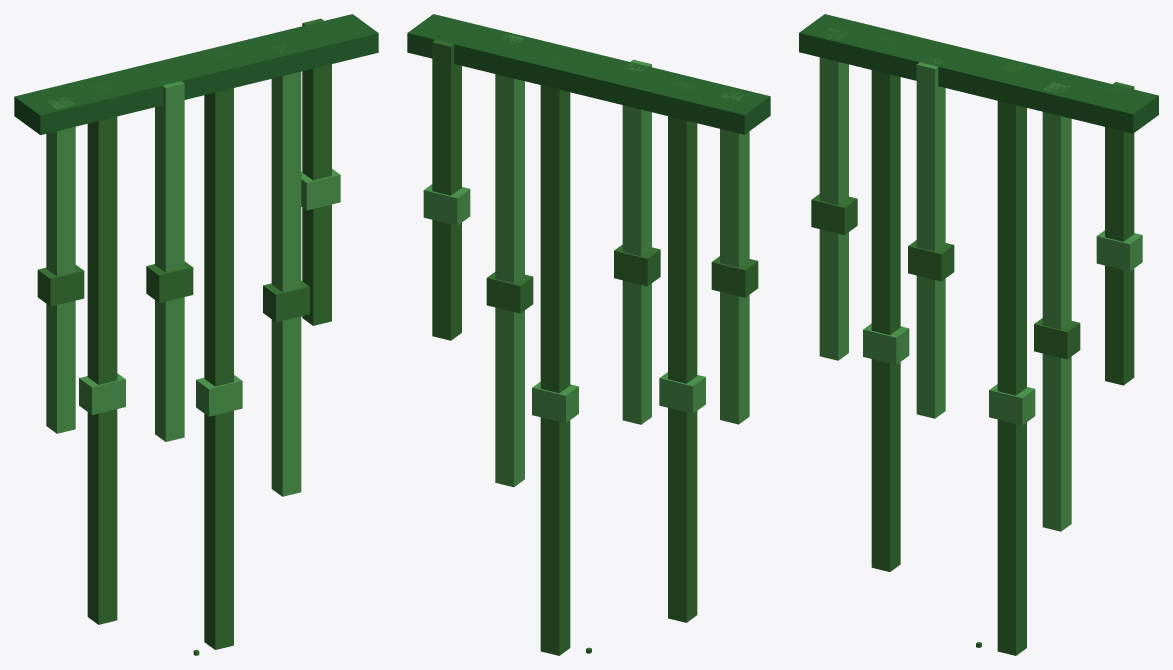
File: dba-vines.glb
The picture shows the model from 3 angles, left to right: view 1: azimuth 30°, elevation 25°; view 2: azimuth 150°, elevation 25°; view 3: azimuth 330°, elevation 25°; orthographic projection.
Parts seen in each view (by area): view 1: box-prop; view 2: box-prop; view 3: box-prop.
Part boxes in pixels (<box>): box-prop: <box>14,14,378,655</box>; box-prop: <box>407,14,770,655</box>; box-prop: <box>799,14,1158,655</box>.
Size of the model in its own units: 1.8 by 3 by 0.32.
